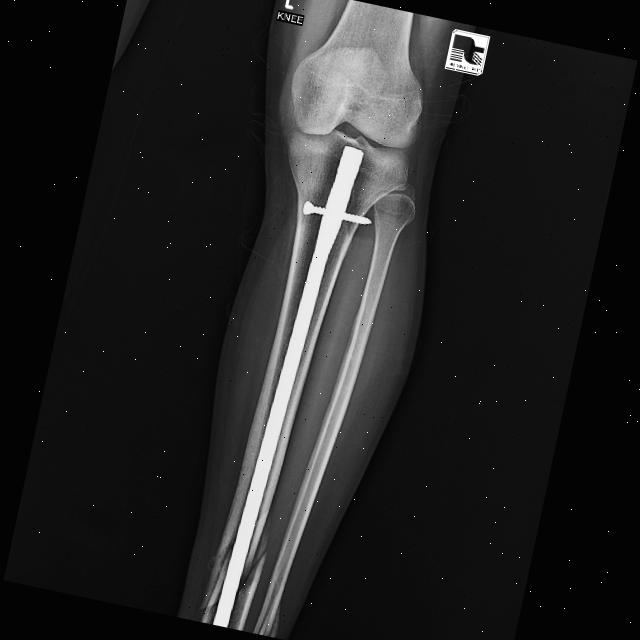Fracture: (226, 510, 273, 631), (195, 532, 236, 624), (248, 594, 282, 638)
